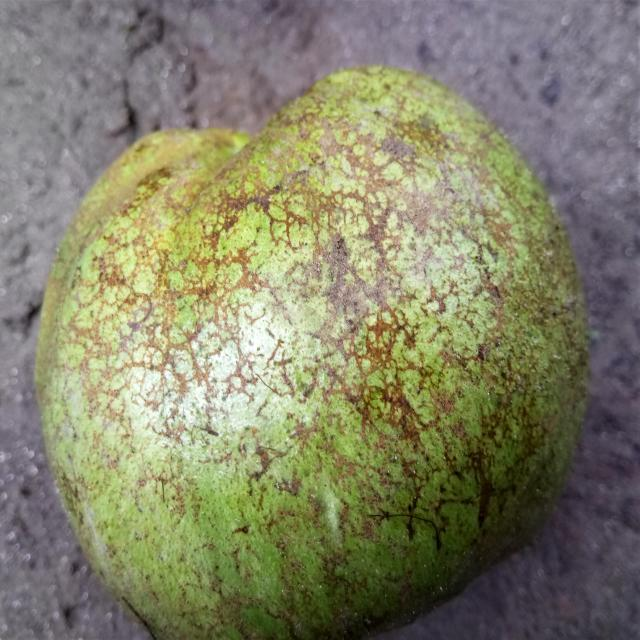Scab: (36, 66, 588, 638)
